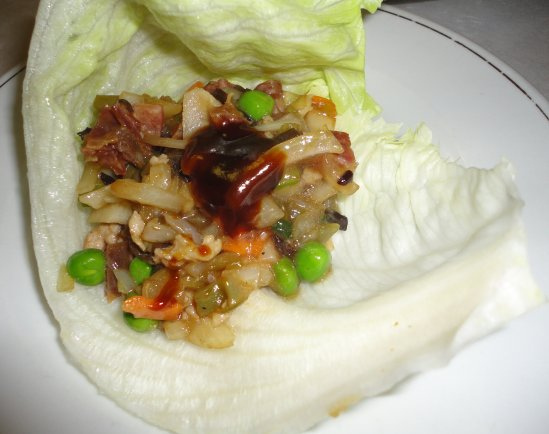boiled peas: (268, 258, 320, 306), (236, 86, 274, 120), (296, 250, 334, 283), (64, 251, 107, 280), (133, 257, 151, 283)
chopped lettuce: (60, 288, 407, 434), (361, 137, 529, 365), (31, 1, 368, 87)
